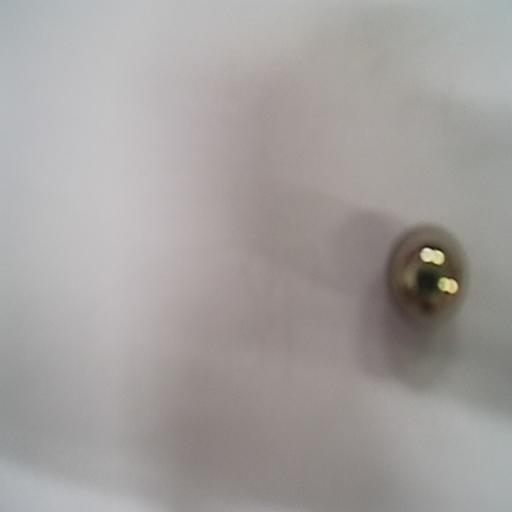steel-ball: (384, 219, 471, 326)
